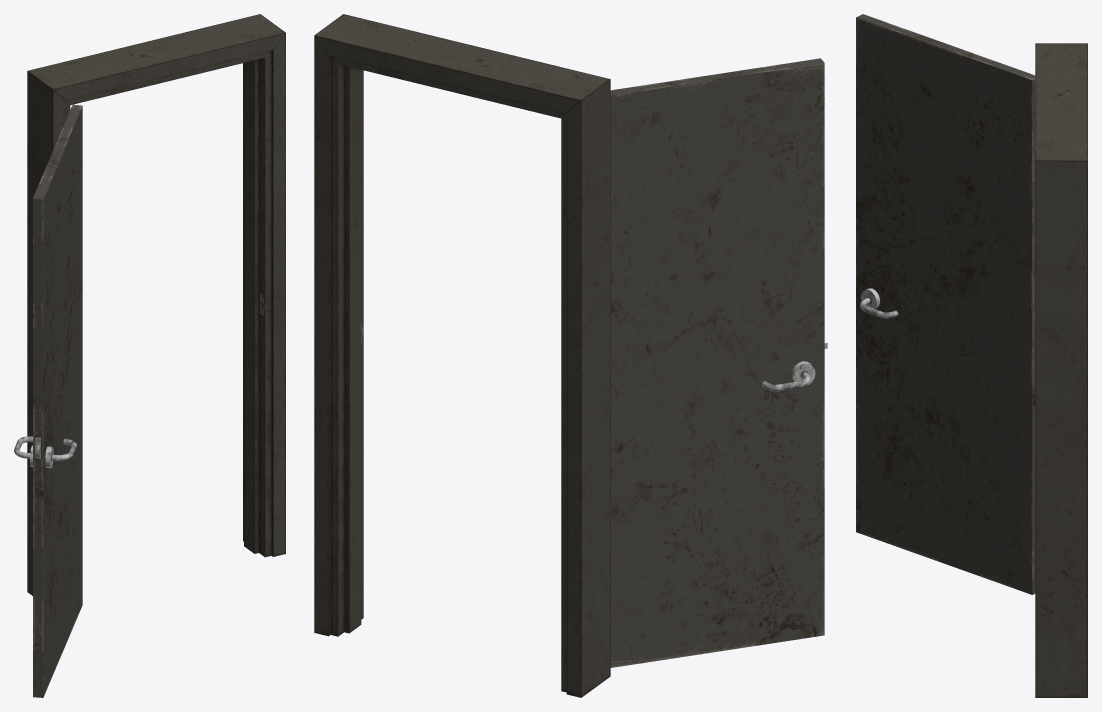
The model's file is door.obj.
3 views of the same model, side by side, from view 1: azimuth 30°, elevation 25°; view 2: azimuth 150°, elevation 25°; view 3: azimuth 270°, elevation 25° (orthographic). The views are drawn at different scales.
Visible parts, largest first — view 1: Frame_low_Cube.004, Door_low_Cube.005, Handle_low_Cylinder; view 2: Door_low_Cube.005, Frame_low_Cube.004; view 3: Door_low_Cube.005, Frame_low_Cube.004, Handle_low_Cylinder.
Part boxes in pixels (x1,y1,x2,y2): Frame_low_Cube.004: [27, 14, 285, 595]; Door_low_Cube.005: [33, 104, 82, 697]; Handle_low_Cylinder: [14, 436, 76, 468]; Door_low_Cube.005: [610, 58, 827, 667]; Frame_low_Cube.004: [314, 14, 610, 697]; Door_low_Cube.005: [856, 14, 1035, 594]; Frame_low_Cube.004: [1035, 43, 1087, 697]; Handle_low_Cylinder: [860, 288, 898, 318].
Bounding box in the file's own units: 3.74 × 5.52 × 2.16.
1 material, 1 textured.
